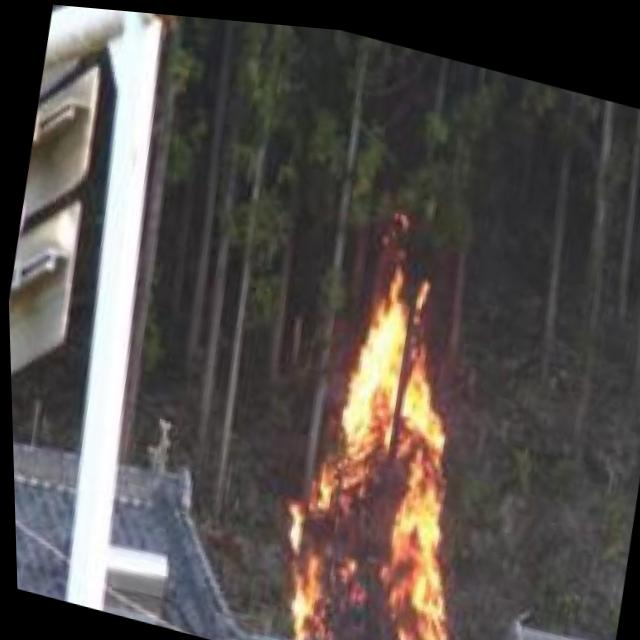Fire: (263, 231, 511, 640)
